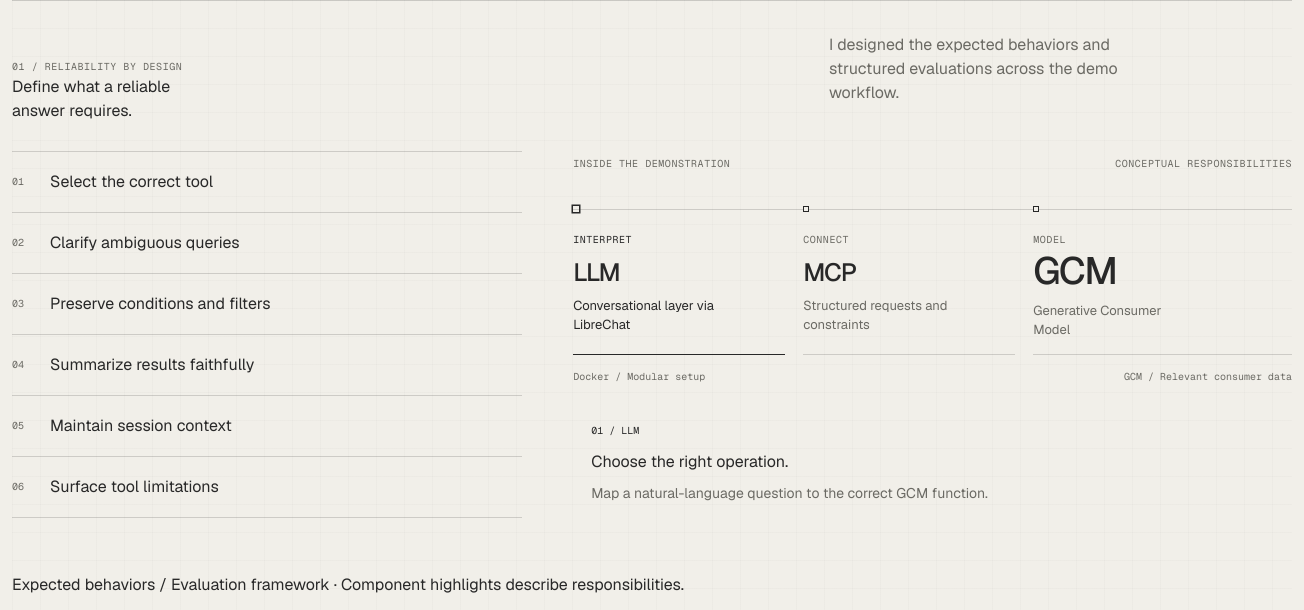
GCM ledger using mouse › connects Clarify ambiguous queries to its requirement and responsible components
Step 1. Click the button "06 Surface tool limitations" → (134, 486), box [12,457,522,518]
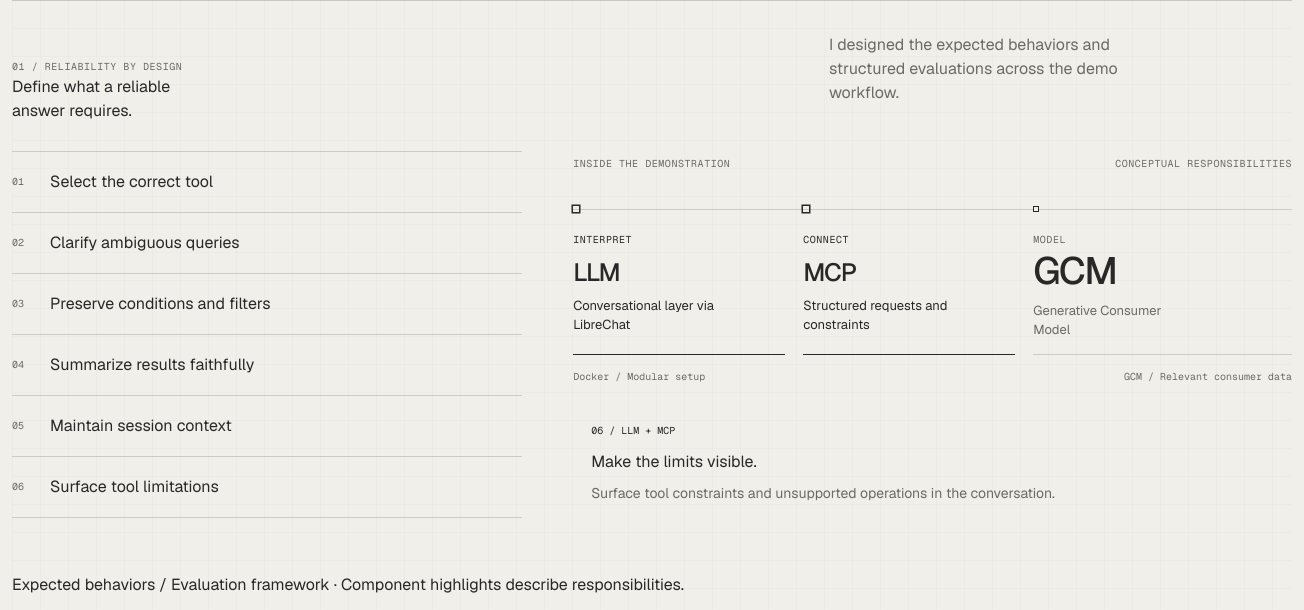
Step 2. Hover over the button "02 Clarify ambiguous queries" → (145, 242), box [12,213,522,274]
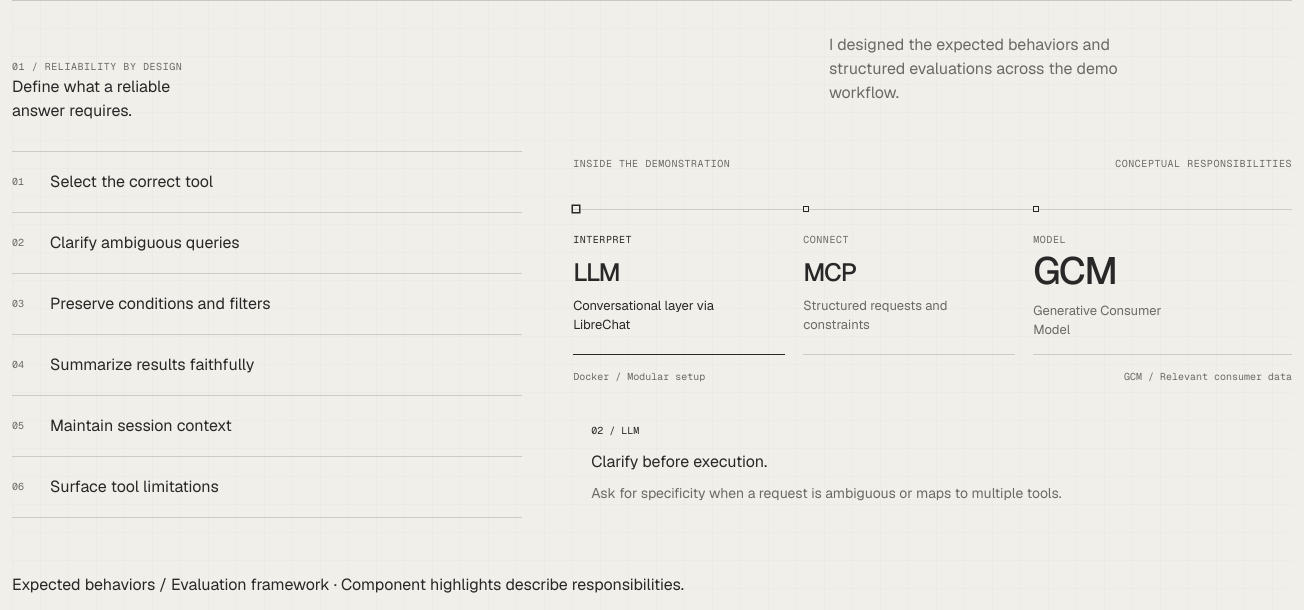
Check: the heading "Clarify before execution." is shown, box [591,451,767,472]
